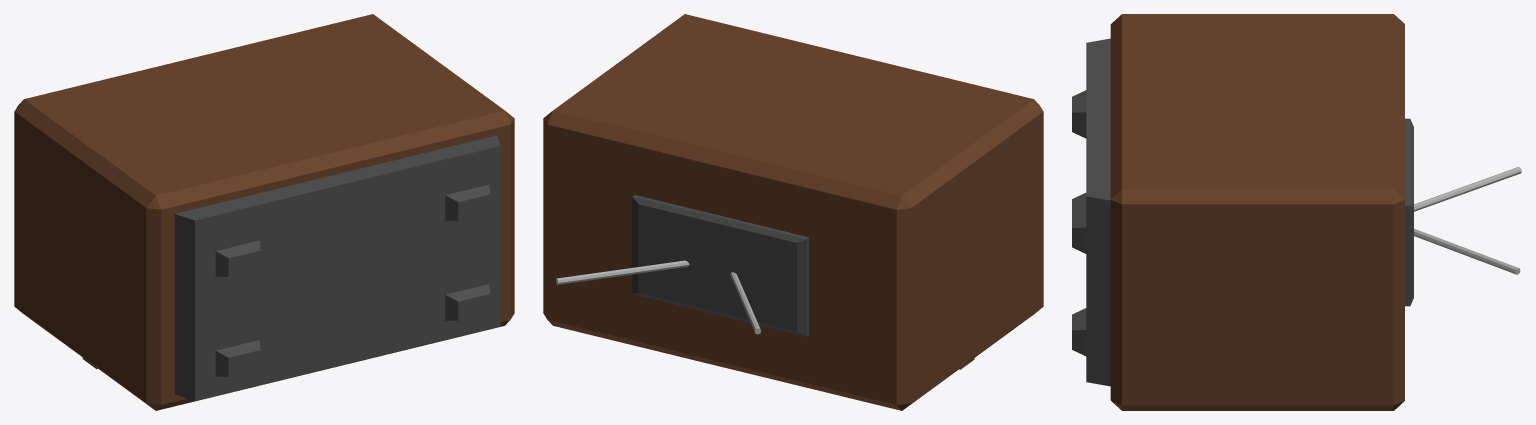
File: CRT.fbx
The picture shows the model from 3 angles, left to right: view 1: azimuth 30°, elevation 25°; view 2: azimuth 150°, elevation 25°; view 3: azimuth 270°, elevation 25°; orthographic projection. The views are drawn at different scales.
Visible parts, largest first — view 1: Cube.001; view 2: Cube.001; view 3: Cube.001.
Boxes of the visible parts, x1,y1,x2,y2 form: Cube.001: (14,14,514,410); Cube.001: (543,14,1043,410); Cube.001: (1072,14,1521,410).
Bounding box in the file's own units: 331 × 190 × 340.
